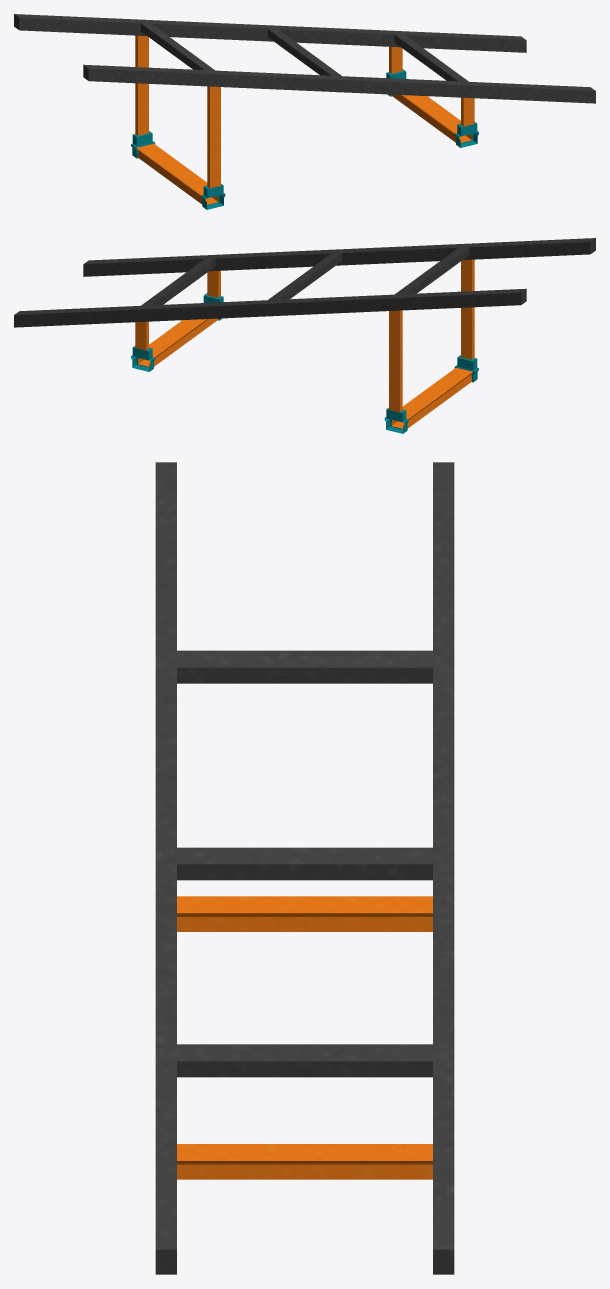
The model's file is Roof_1_Beams.fbx.
The picture shows the model from 3 angles, top to bottom: view 1: azimuth 30°, elevation 25°; view 2: azimuth 150°, elevation 25°; view 3: azimuth 270°, elevation 25°; orthographic projection. The views are drawn at different scales.
Visible parts, largest first — view 1: Roof_1_Beams; view 2: Roof_1_Beams; view 3: Roof_1_Beams.
Part boxes in pixels (x1,y1,x2,y2): Roof_1_Beams: [14, 14, 595, 209]; Roof_1_Beams: [14, 238, 595, 433]; Roof_1_Beams: [155, 462, 454, 1274].
Size of the model in its own units: 784 by 251 by 200.
